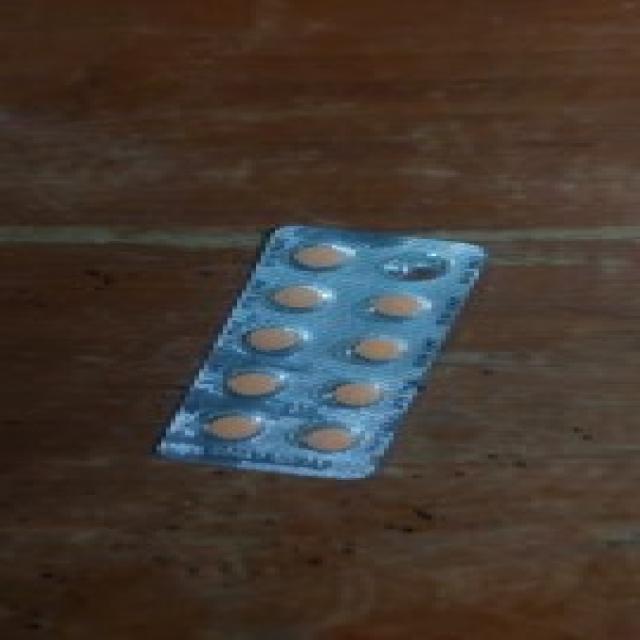Cacat: (154, 225, 491, 482)
Kemasan: (368, 248, 455, 290)
